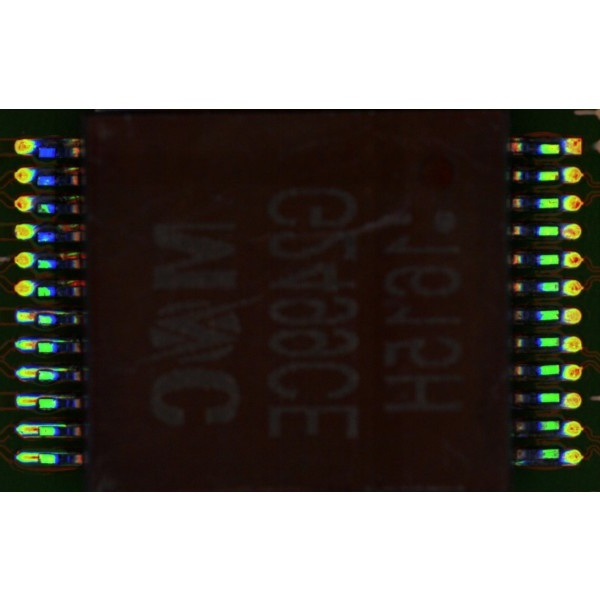Bad_podu: (23, 427, 47, 434), (22, 371, 46, 378), (25, 454, 48, 461), (23, 399, 45, 406), (25, 315, 45, 321), (26, 342, 43, 349)
Bad_qiaojiao: (40, 367, 74, 373), (39, 310, 72, 316), (38, 338, 72, 343), (40, 394, 73, 399), (40, 423, 72, 427)
